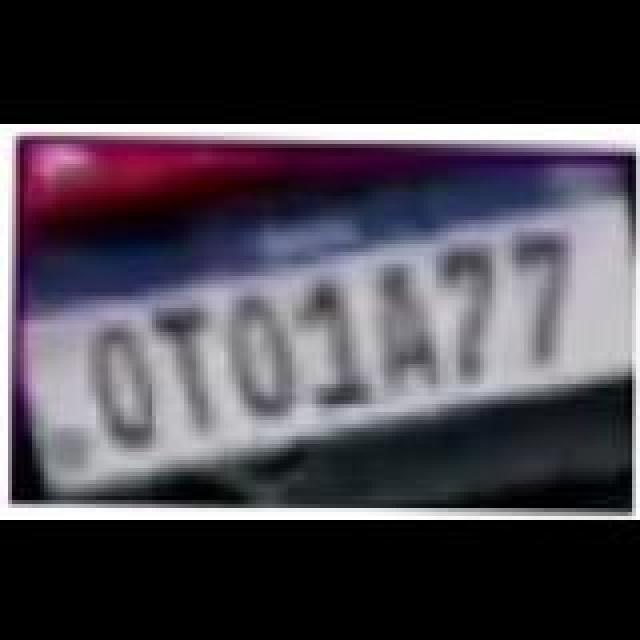1: (290, 272, 374, 408)
7: (436, 240, 508, 376), (508, 228, 580, 364)
A: (370, 258, 446, 390)
O: (224, 290, 304, 422), (84, 318, 164, 450)
T: (154, 302, 230, 434)
